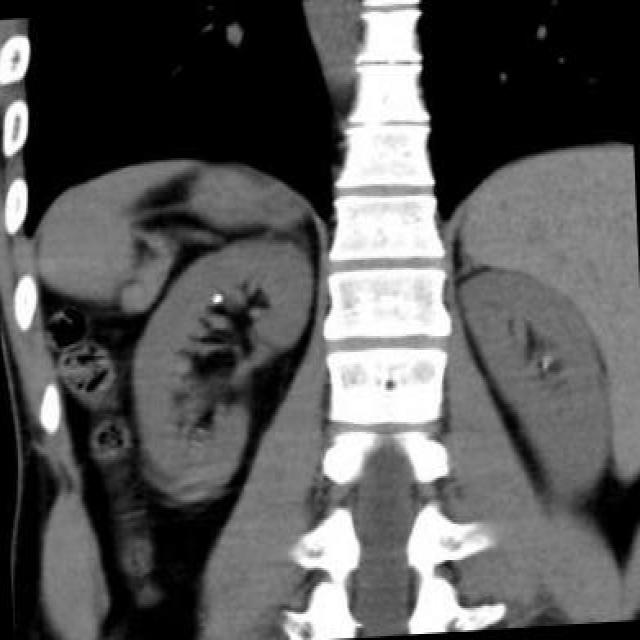Tas_Var: (538, 353, 554, 373), (210, 290, 225, 310)
